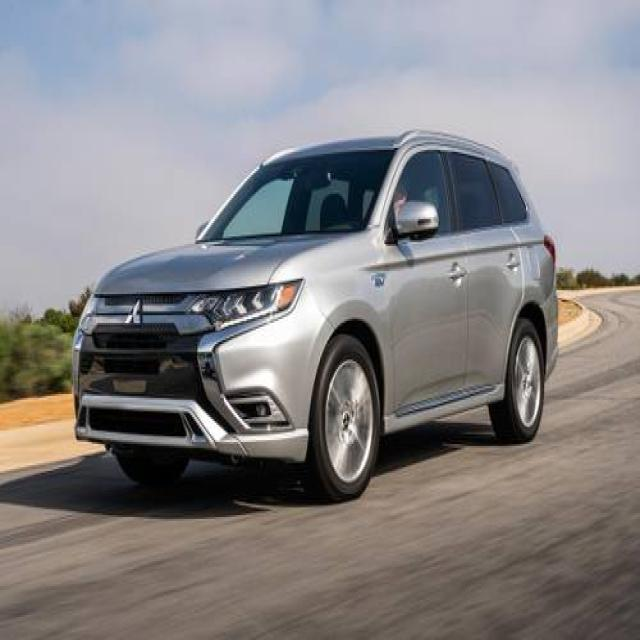light_vehicle: (70, 130, 560, 502)
